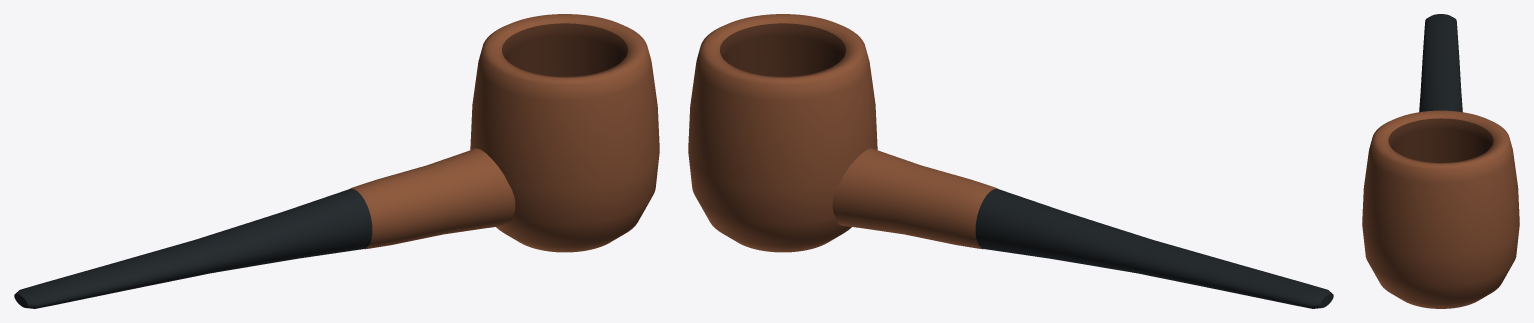
Rendered from A-NEW-20261027-SMOKING-PIPE-001_LOD0_R1.fbx.
3 renders of one model, left to right at view 1: azimuth 30°, elevation 25°; view 2: azimuth 150°, elevation 25°; view 3: azimuth 270°, elevation 25°, orthographic. The views are drawn at different scales.
Parts seen in each view (by area): view 1: open hollow pipe bowl, long tapered flattened mouthpiece, fixed lateral rounded shank; view 2: open hollow pipe bowl, long tapered flattened mouthpiece, fixed lateral rounded shank; view 3: open hollow pipe bowl, long tapered flattened mouthpiece.
Part boxes in pixels (x1,y1,x2,y2): open hollow pipe bowl: (470,14,659,252); long tapered flattened mouthpiece: (14,189,372,308); fixed lateral rounded shank: (350,148,515,249); open hollow pipe bowl: (688,14,877,252); long tapered flattened mouthpiece: (975,189,1333,308); fixed lateral rounded shank: (832,148,997,249); open hollow pipe bowl: (1362,110,1519,308); long tapered flattened mouthpiece: (1419,14,1462,112).
Size of the model in its own units: 18.3 by 5.35 by 4.8.
